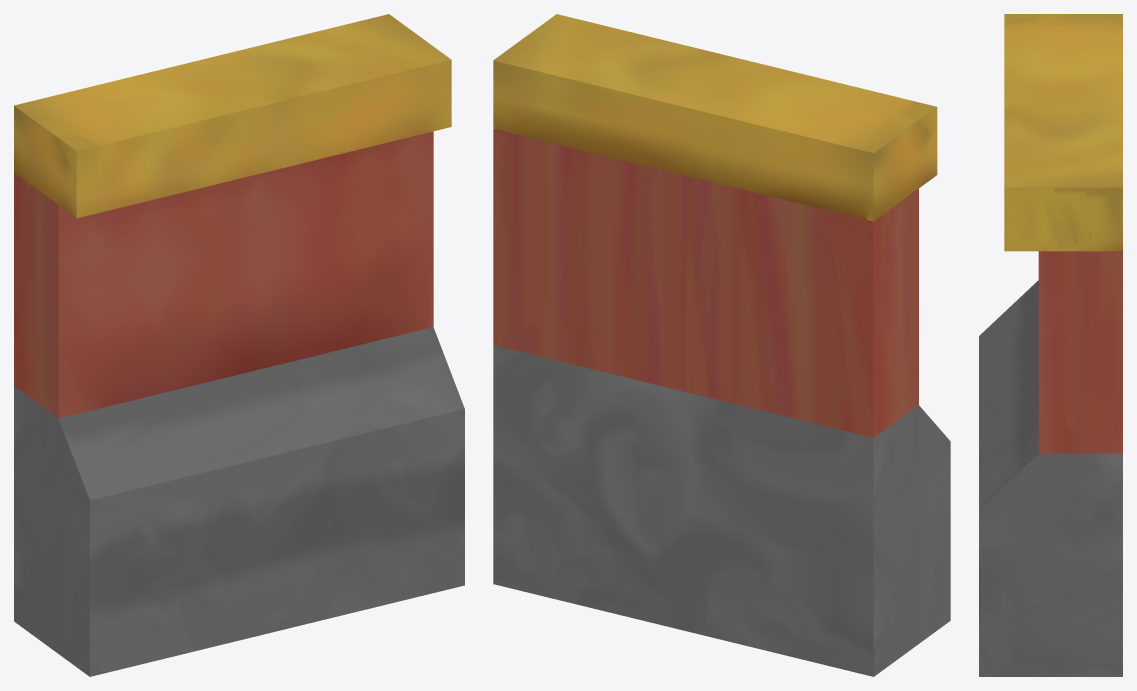
The model's file is wall.glb.
3 renders of one model, left to right at view 1: azimuth 30°, elevation 25°; view 2: azimuth 150°, elevation 25°; view 3: azimuth 270°, elevation 25°, orthographic. The views are drawn at different scales.
Parts seen in each view (by area): view 1: Cube.015; view 2: Cube.015; view 3: Cube.015.
Part boxes in pixels (bbox=[...]): Cube.015: bbox=[14, 14, 464, 676]; Cube.015: bbox=[493, 14, 950, 676]; Cube.015: bbox=[979, 14, 1122, 676].
Size of the model in its own units: 5 by 6.57 by 1.75.
1 material, 1 textured.
